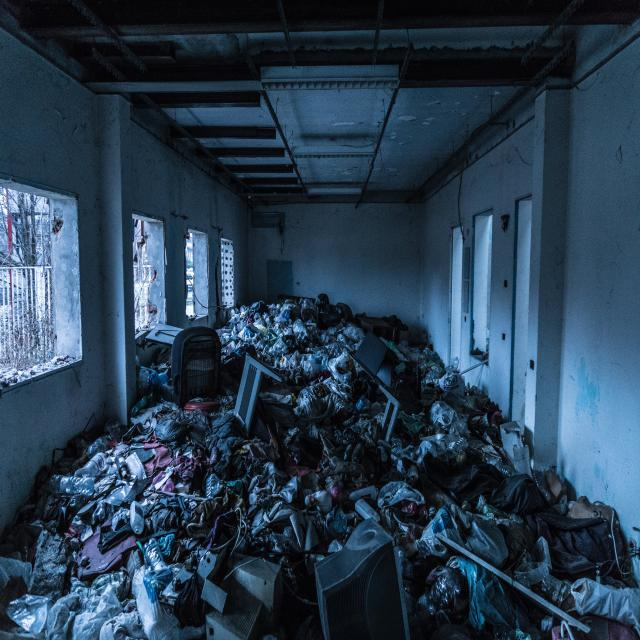metal: (324, 540, 402, 629), (215, 561, 277, 625), (236, 360, 270, 427)
plastic: (59, 448, 113, 491)
trash: (298, 309, 350, 396)
